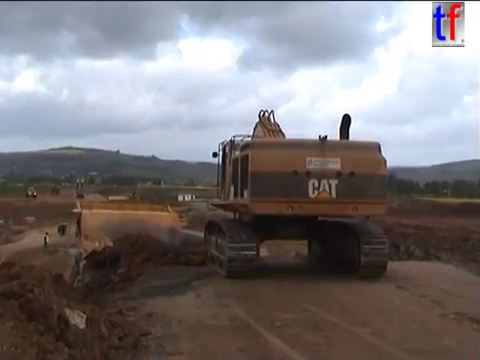excavator: (200, 106, 392, 280)
truck: (56, 196, 239, 301), (107, 200, 188, 241), (25, 185, 37, 197), (50, 183, 60, 196)
worker: (41, 230, 50, 253)
